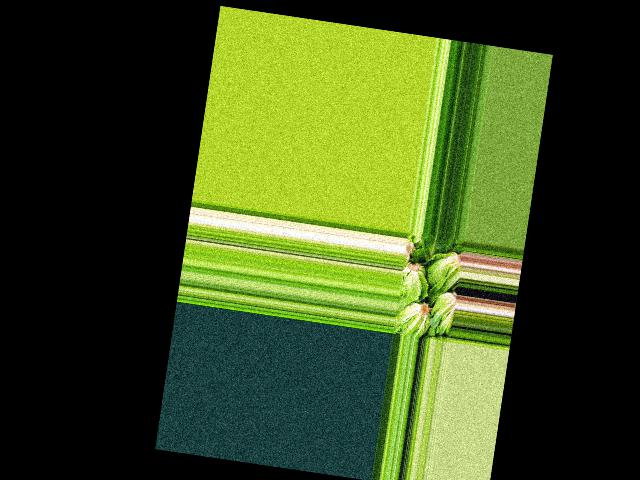lettuce: (418, 232, 446, 260)
